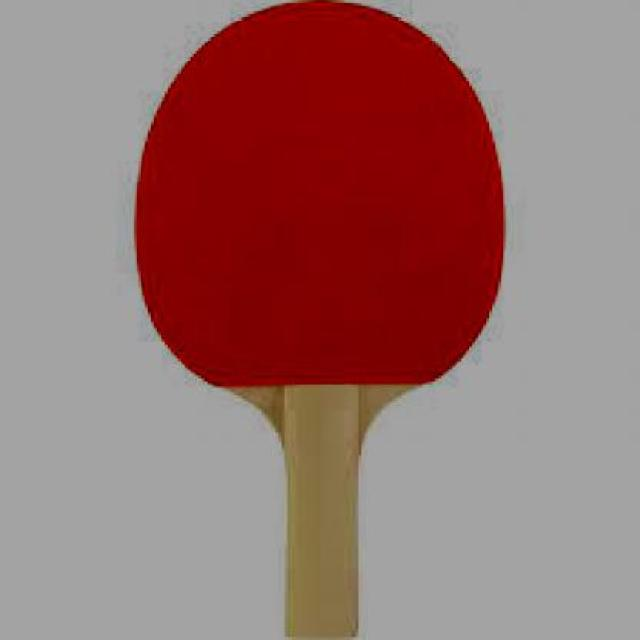table_tennis_racket: (127, 2, 508, 408)
